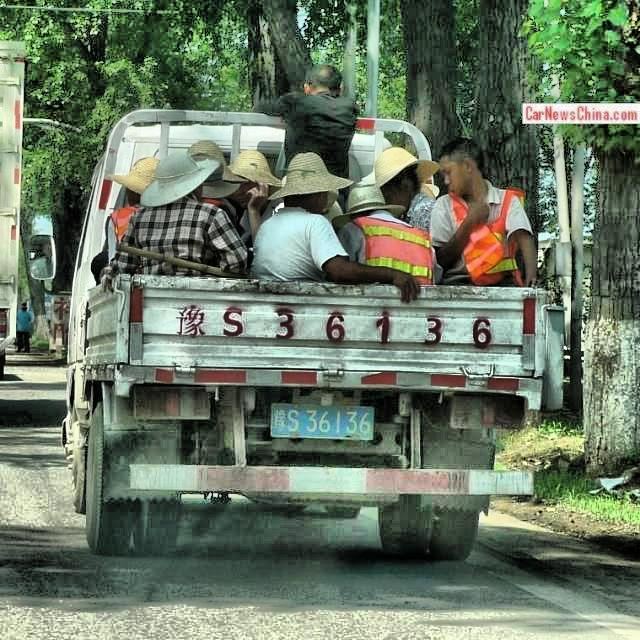safety_jacket: (452, 208, 524, 276), (353, 217, 427, 278)
